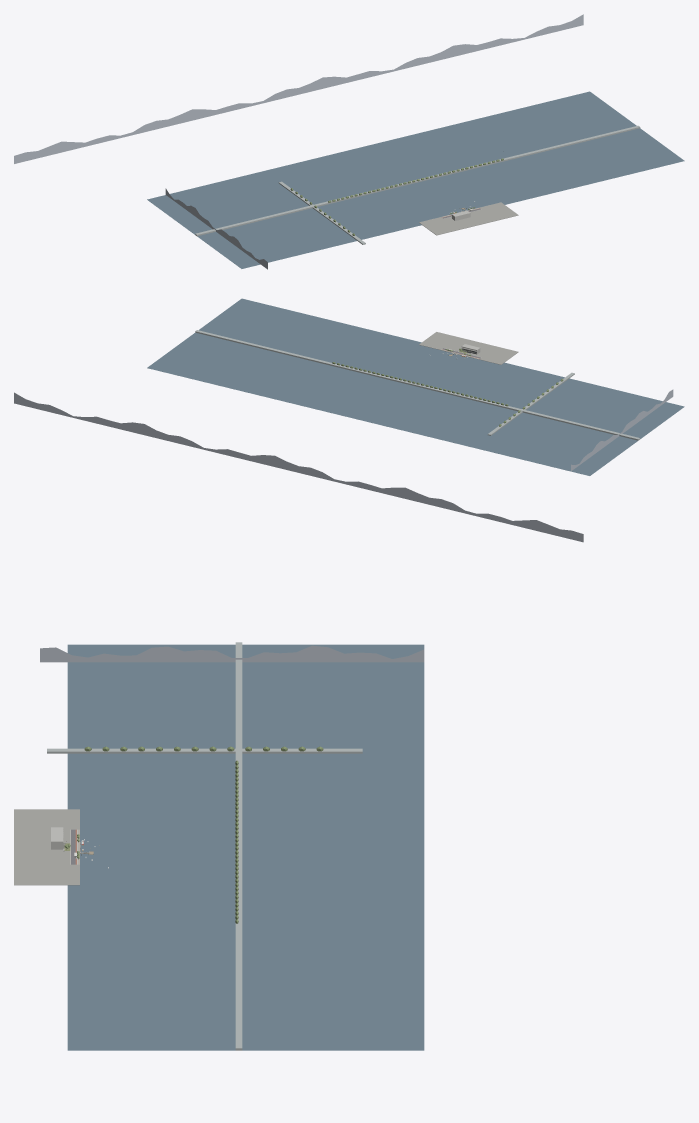
3 renders of one model, top to bottom at view 1: azimuth 30°, elevation 25°; view 2: azimuth 150°, elevation 25°; view 3: azimuth 270°, elevation 25°, orthographic. The views are drawn at different scales.
Parts seen in each view (by area): view 1: water, mtn_ridge, far_shore, land_base, mtn_west; view 2: water, mtn_ridge, far_shore, land_base, mtn_west; view 3: water, land_base, mtn_west, far_shore, west_shore.
Part boxes in pixels (left/top/right/bottom): water: left=147, top=91, right=684, bottom=268; mtn_ridge: left=14, top=14, right=583, bottom=163; far_shore: left=195, top=125, right=640, bottom=236; land_base: left=419, top=202, right=518, bottom=235; mtn_west: left=165, top=188, right=267, bottom=269; water: left=147, top=298, right=684, bottom=475; mtn_ridge: left=14, top=392, right=583, bottom=542; far_shore: left=195, top=330, right=640, bottom=440; land_base: left=419, top=332, right=518, bottom=364; mtn_west: left=571, top=389, right=673, bottom=471; water: left=67, top=644, right=424, bottom=1050; land_base: left=14, top=809, right=79, bottom=885; mtn_west: left=40, top=645, right=424, bottom=662; far_shore: left=235, top=642, right=242, bottom=1050; west_shore: left=47, top=748, right=362, bottom=753.
Bounding box in the file's own units: 1800 × 34.68 × 978.
